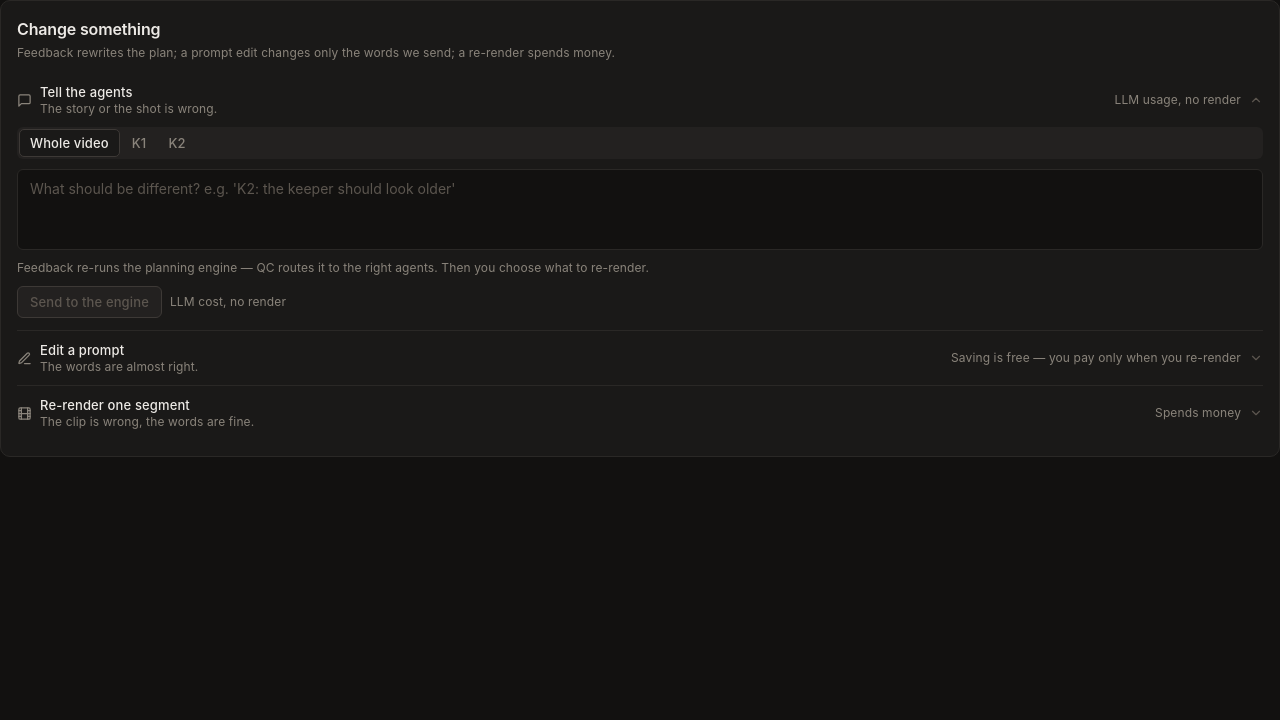
Test: ChangeRequestPanel › sends feedback to the engine with a job scope
Check: the button "Send to the engine" is disabled, box [17, 286, 162, 318]
Click the radio button labelled "K2".
click(177, 143)  # box [158, 129, 196, 157]
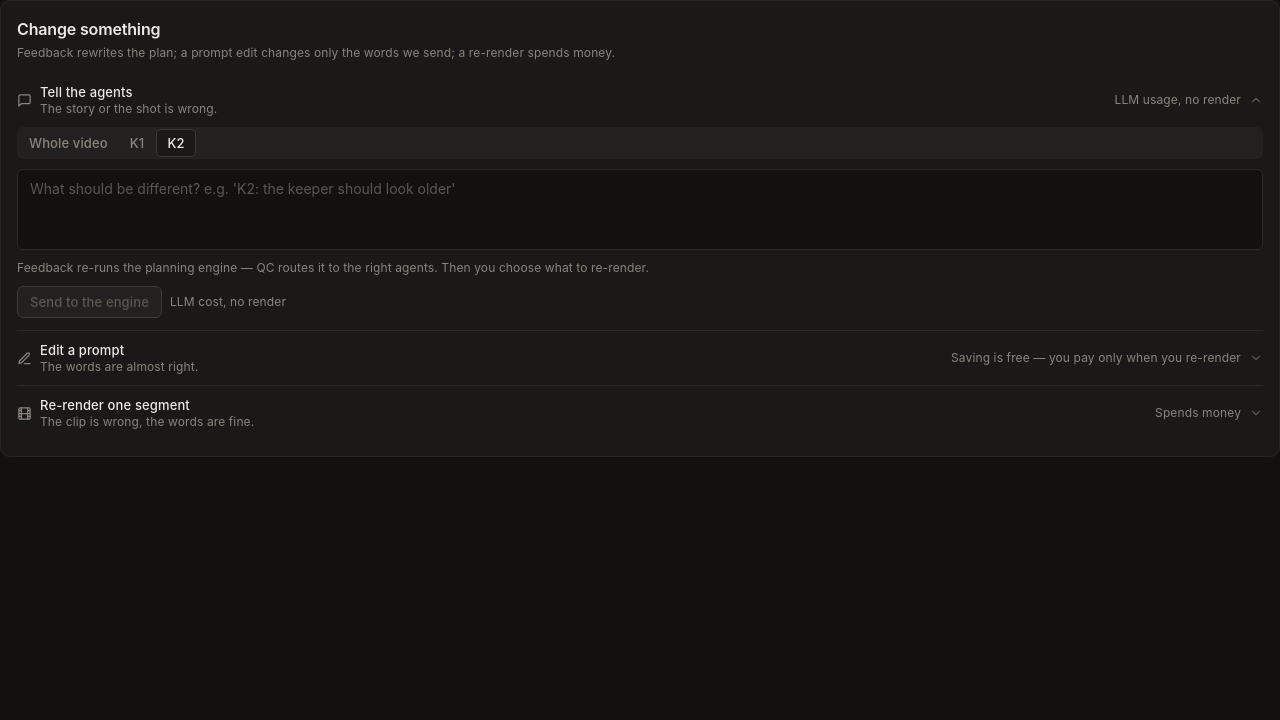
Replace the text in the text box named "Describe what should change" with "the keeper should look older" at (640, 210), box [17, 169, 1263, 250]
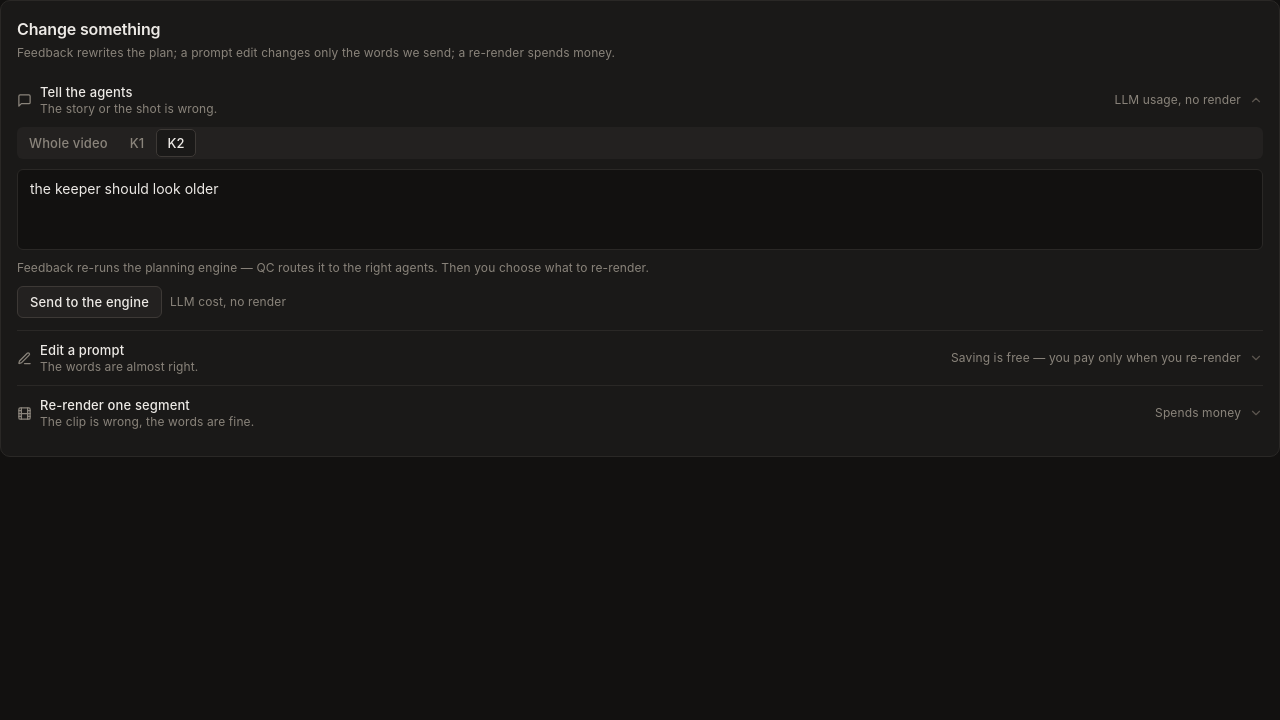
Check: the button "Send to the engine" is enabled
Click the button "Send to the engine".
click(89, 302)  # box [17, 286, 162, 318]
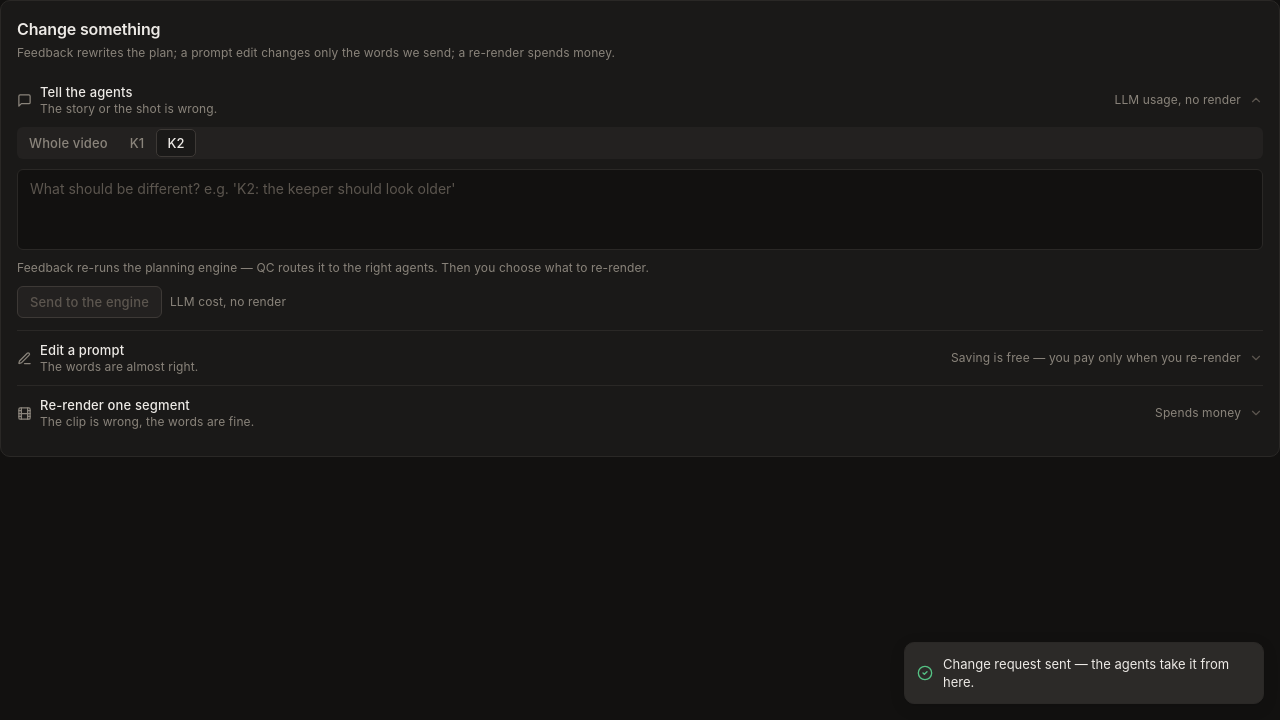
Check: the text "Change request sent — the agents take it from here." is shown, box [943, 655, 1251, 691]
